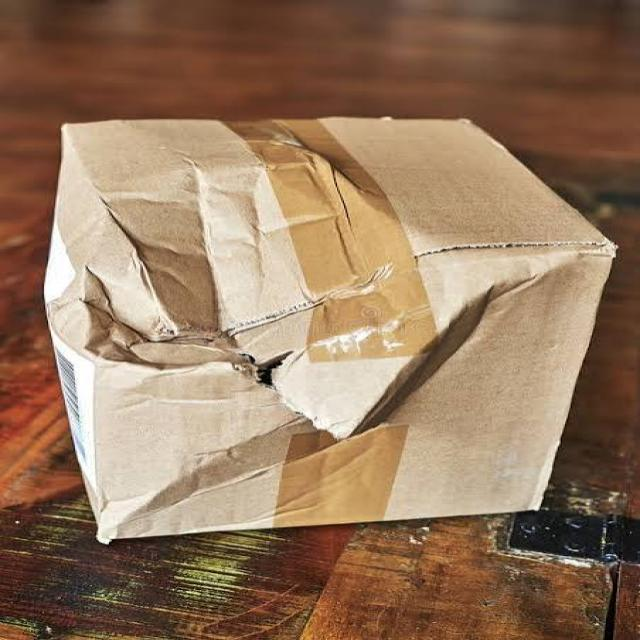carton_box: (25, 105, 630, 544)
package_damage: (46, 215, 628, 453)
